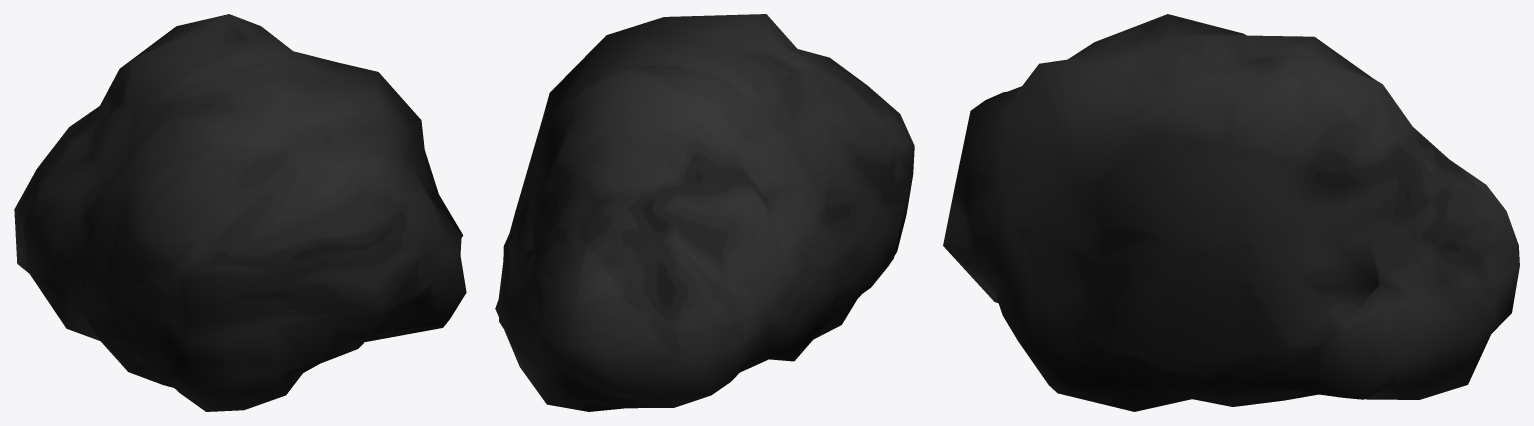
Rendered from 05-Rock.fbx.
3 views of the same model, side by side, from view 1: azimuth 30°, elevation 25°; view 2: azimuth 150°, elevation 25°; view 3: azimuth 270°, elevation 25° (orthographic). The views are drawn at different scales.
Visible parts, largest first — view 1: 05-CoralRock.092; view 2: 05-CoralRock.092; view 3: 05-CoralRock.092.
Boxes of the visible parts, x1,y1,x2,y2 form: 05-CoralRock.092: [14, 14, 466, 411]; 05-CoralRock.092: [495, 14, 914, 411]; 05-CoralRock.092: [943, 14, 1519, 411].
Size of the model in its own units: 265 by 228 by 346.
